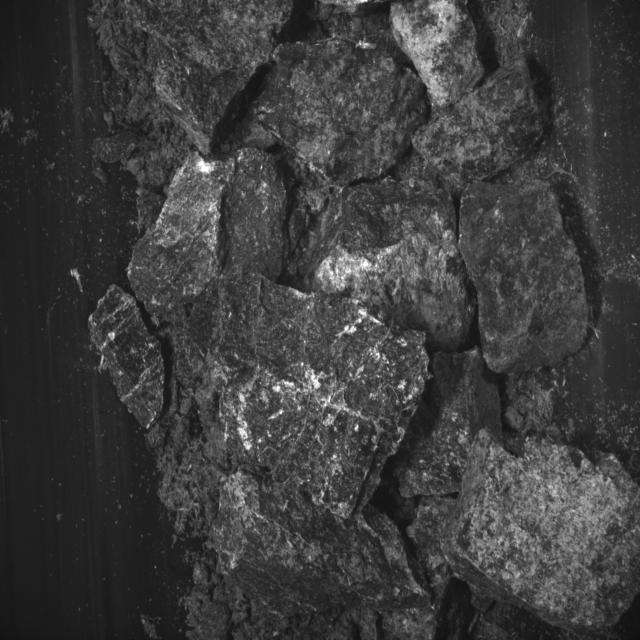Stones: (176, 275, 430, 518), (444, 430, 640, 635), (212, 471, 431, 615), (309, 181, 476, 352), (129, 150, 287, 317), (126, 1, 294, 154), (254, 41, 427, 186), (460, 181, 589, 374), (414, 61, 544, 194), (395, 349, 502, 498), (90, 286, 165, 428), (391, 1, 485, 109)
